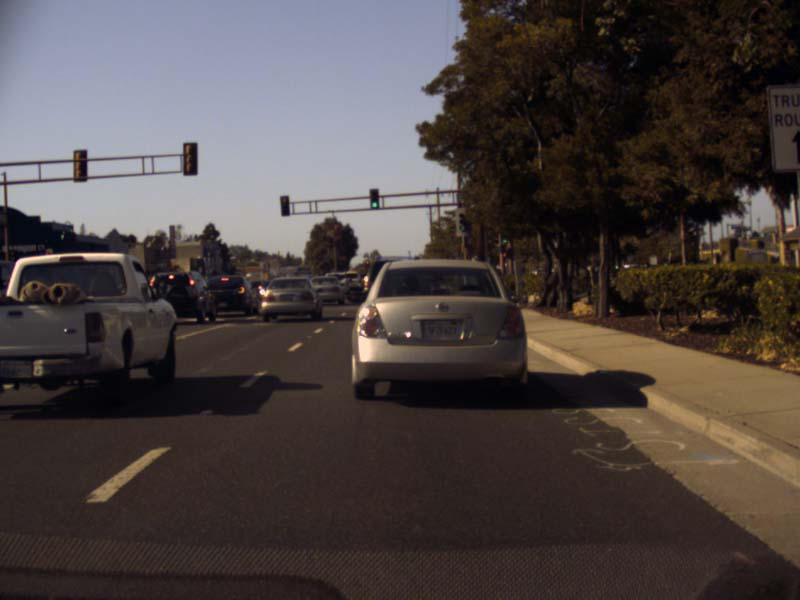Green: (369, 188, 379, 208), (459, 212, 467, 231), (501, 231, 508, 245)
Red: (279, 195, 290, 215), (502, 251, 508, 265), (365, 260, 369, 267)
